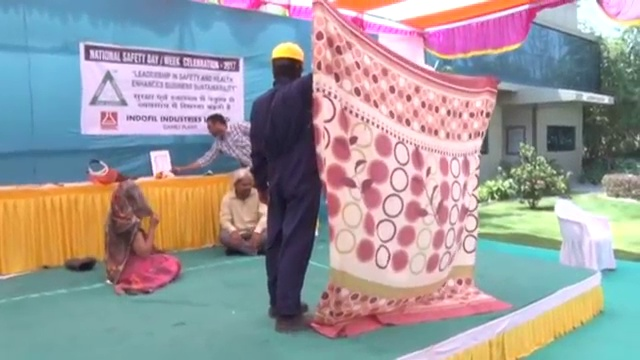helmet: (269, 39, 304, 64)
helmet_off: (112, 179, 145, 212), (234, 166, 253, 199), (207, 113, 226, 138)
helmet_on: (268, 39, 305, 83)
person: (251, 40, 328, 332), (102, 176, 179, 295), (170, 112, 261, 168), (222, 164, 272, 253)
